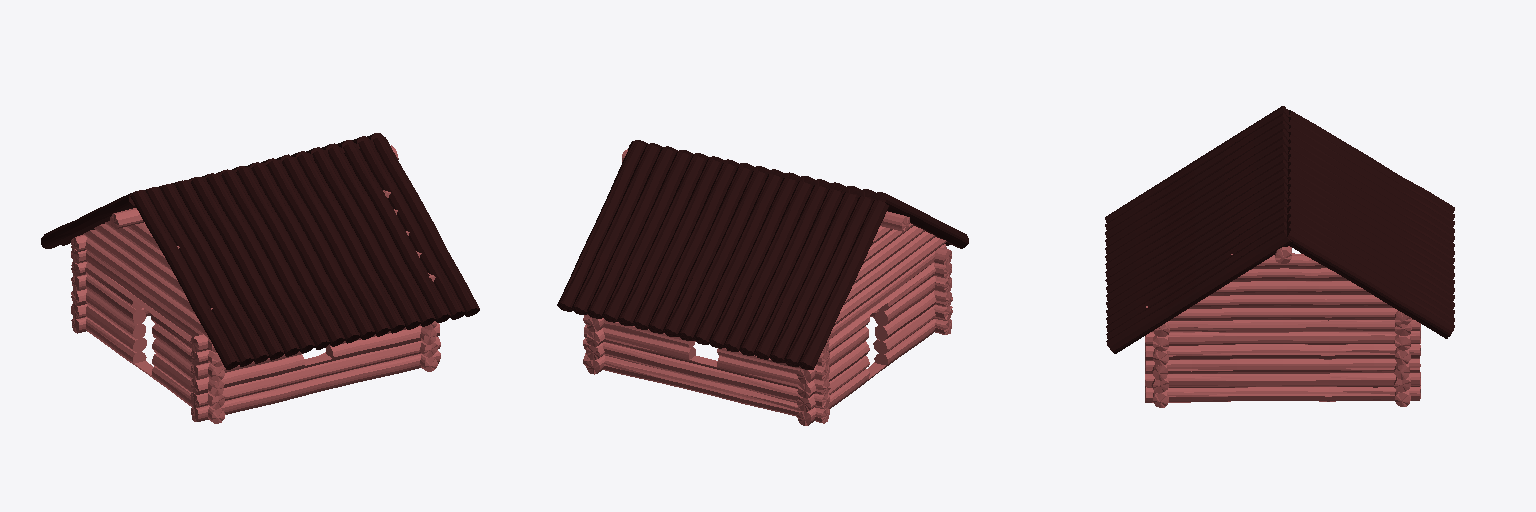
Rendered from Shadow_Valley_House_2.obj.
3 views of the same model, side by side, from view 1: azimuth 30°, elevation 25°; view 2: azimuth 150°, elevation 25°; view 3: azimuth 270°, elevation 25° (orthographic).
Parts seen in each view (by area): view 1: wand, dach; view 2: wand, dach; view 3: wand, dach.
Boxes of the visible parts, x1,y1,x2,y2 form: wand: [41, 133, 479, 369]; dach: [71, 145, 440, 423]; wand: [557, 140, 968, 369]; dach: [583, 149, 952, 425]; wand: [1105, 106, 1454, 353]; dach: [1145, 246, 1420, 407].
Size of the model in its own units: 27.31 by 17.22 by 29.46.